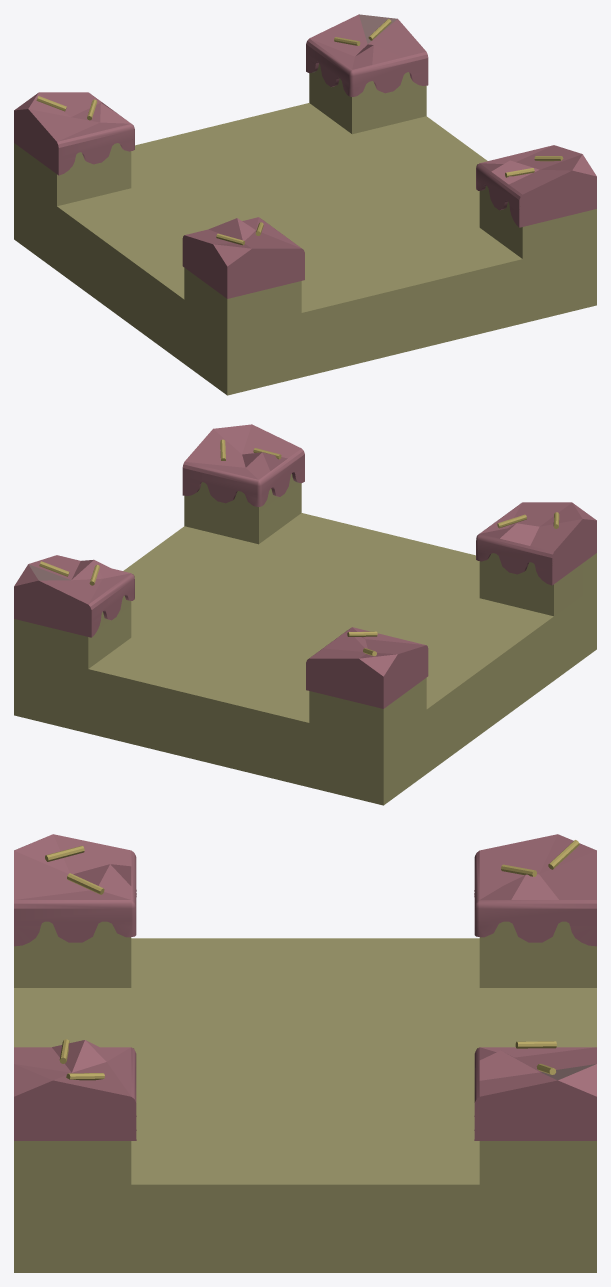
Rendered from SM_Tile_Cross.fbx.
The picture shows the model from 3 angles, top to bottom: view 1: azimuth 30°, elevation 25°; view 2: azimuth 150°, elevation 25°; view 3: azimuth 270°, elevation 25°; orthographic projection. The views are drawn at different scales.
Parts seen in each view (by area): view 1: SM_Tile_Cross2, SM_Tile_Cross1; view 2: SM_Tile_Cross2, SM_Tile_Cross1; view 3: SM_Tile_Cross2, SM_Tile_Cross1.
Boxes of the visible parts, left/top/right/bottom form: SM_Tile_Cross2: left=14, top=19, right=596, bottom=395; SM_Tile_Cross1: left=14, top=14, right=596, bottom=298; SM_Tile_Cross2: left=14, top=439, right=596, bottom=805; SM_Tile_Cross1: left=14, top=424, right=596, bottom=708; SM_Tile_Cross2: left=14, top=840, right=596, bottom=1272; SM_Tile_Cross1: left=14, top=834, right=596, bottom=1140.
Bounding box in the file's own units: 4.5 × 1.68 × 4.5.
